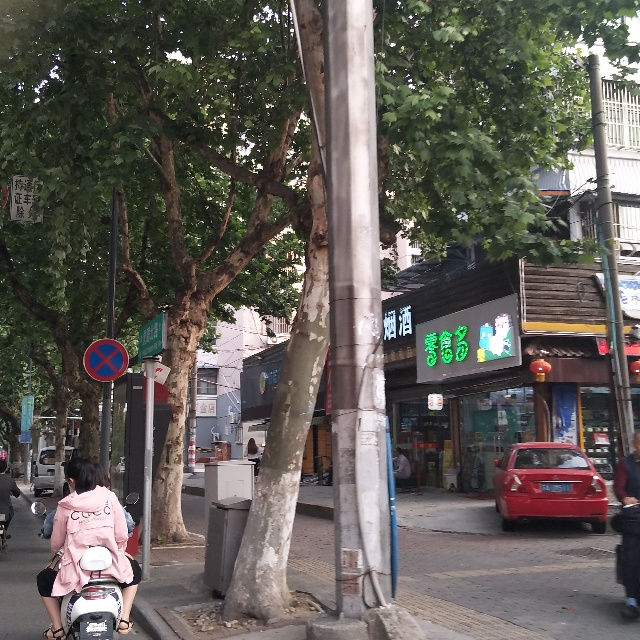stop: (81, 339, 132, 380)
